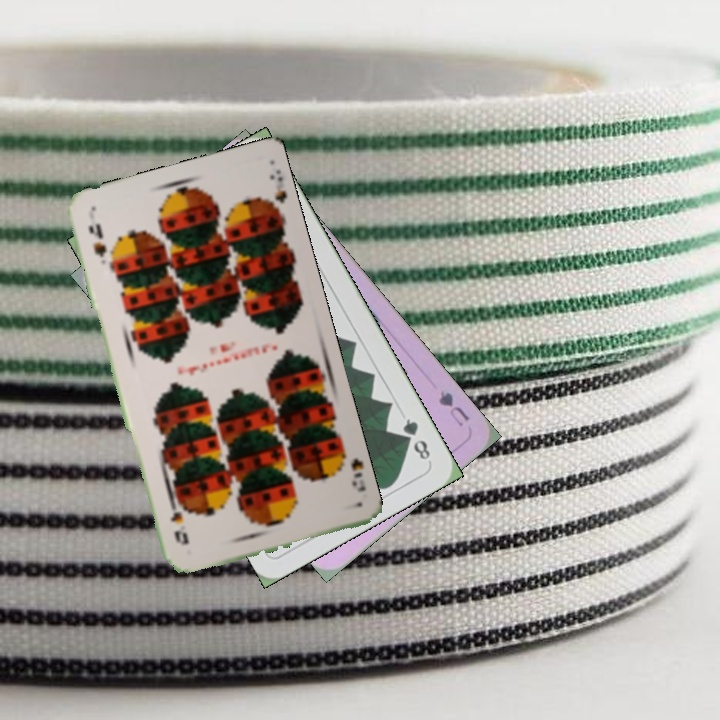G8: (398, 414, 433, 465)
GU: (434, 386, 473, 429)
S9: (332, 444, 369, 495), (84, 219, 109, 267)
